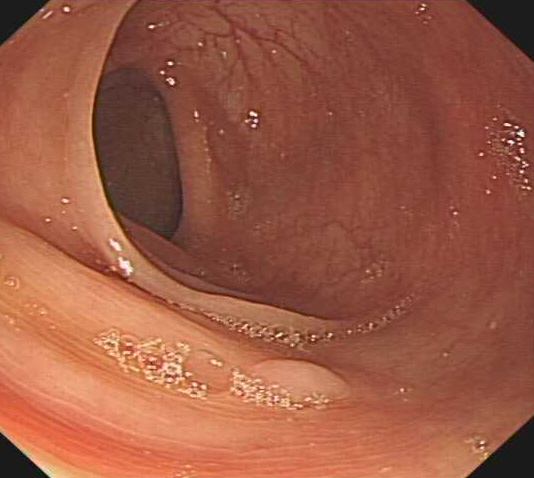others: (245, 357, 353, 406)
